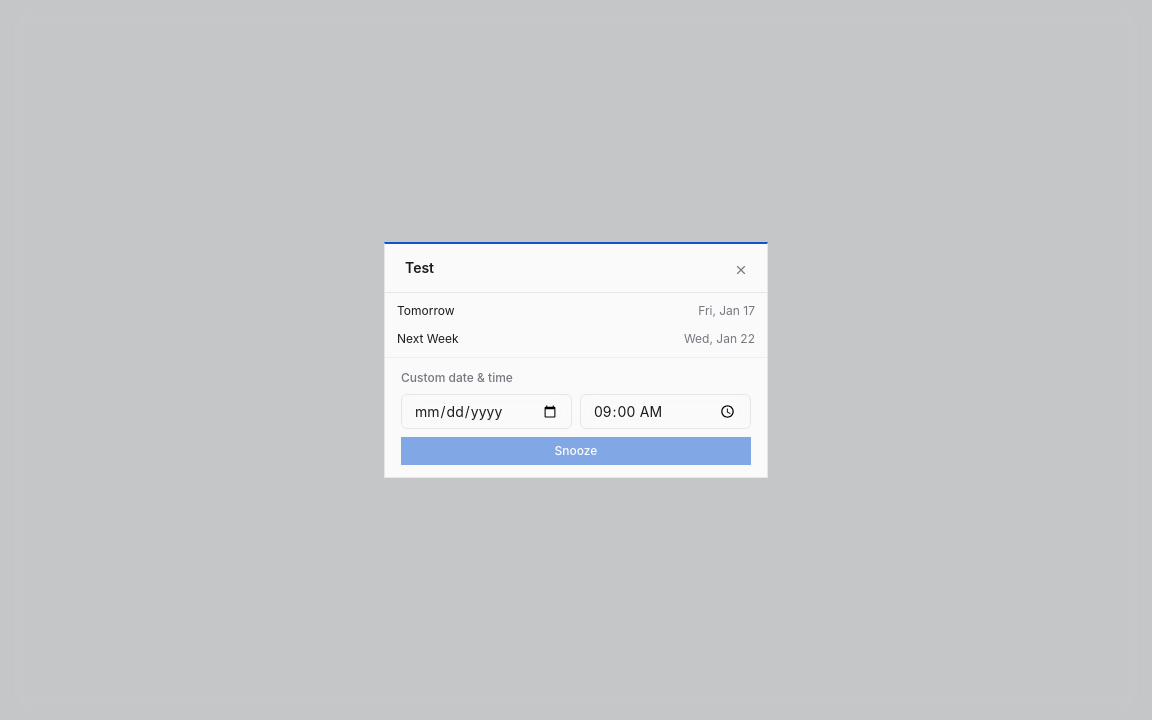
it: DateTimePickerDialog › enables submit button when custom date is set
Type "2025-02-01" into the date field. click: x=486, y=412
box: [401,394,572,429]
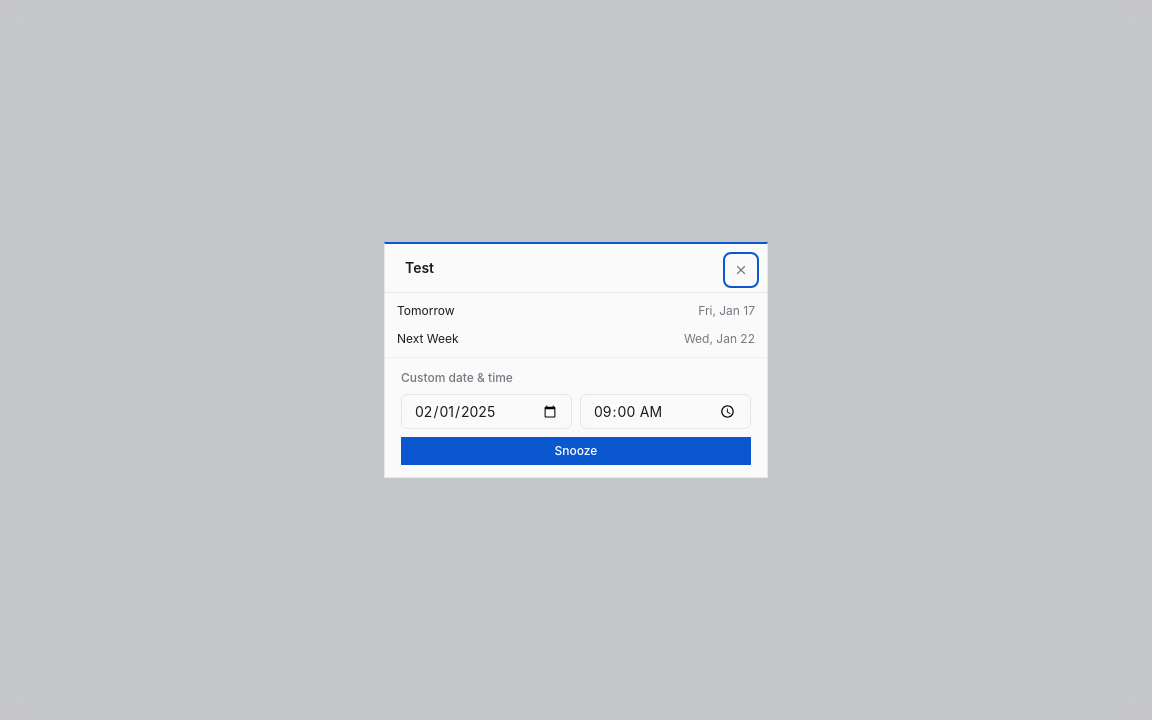
Now the button "Snooze" is enabled, box [401,437,751,465]
